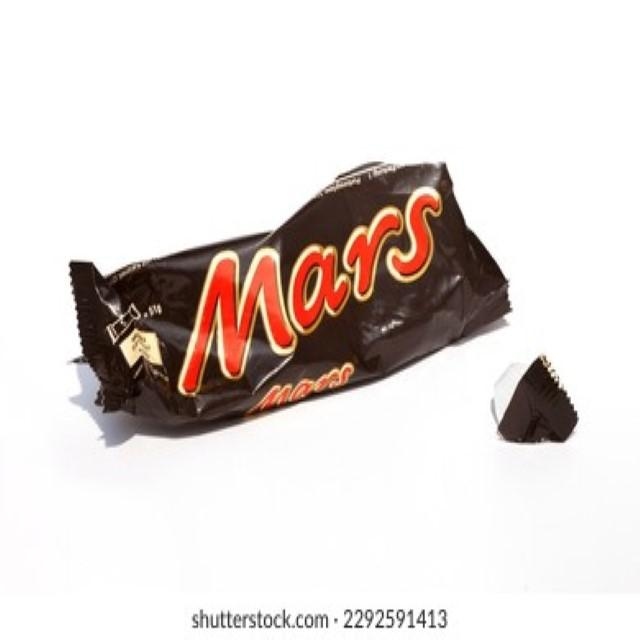mars_chocolate: (130, 174, 475, 454)
